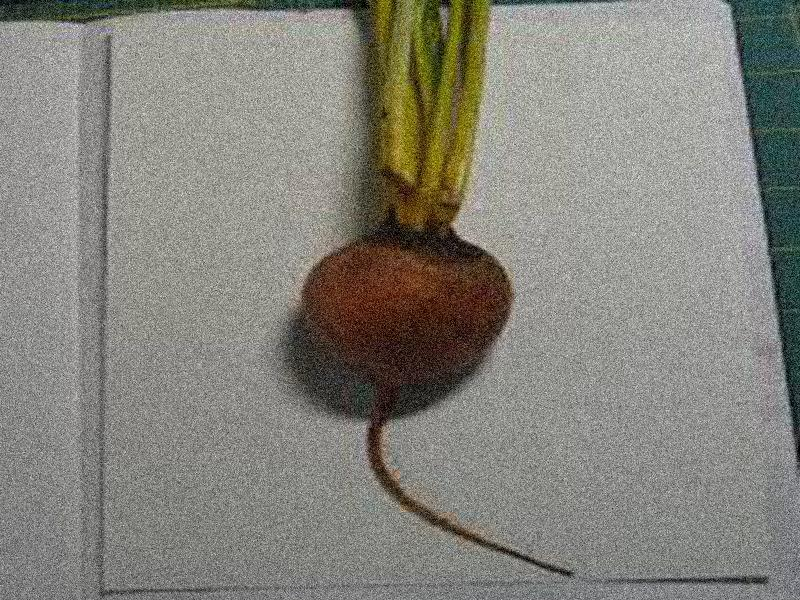Beet: (303, 5, 570, 576)
